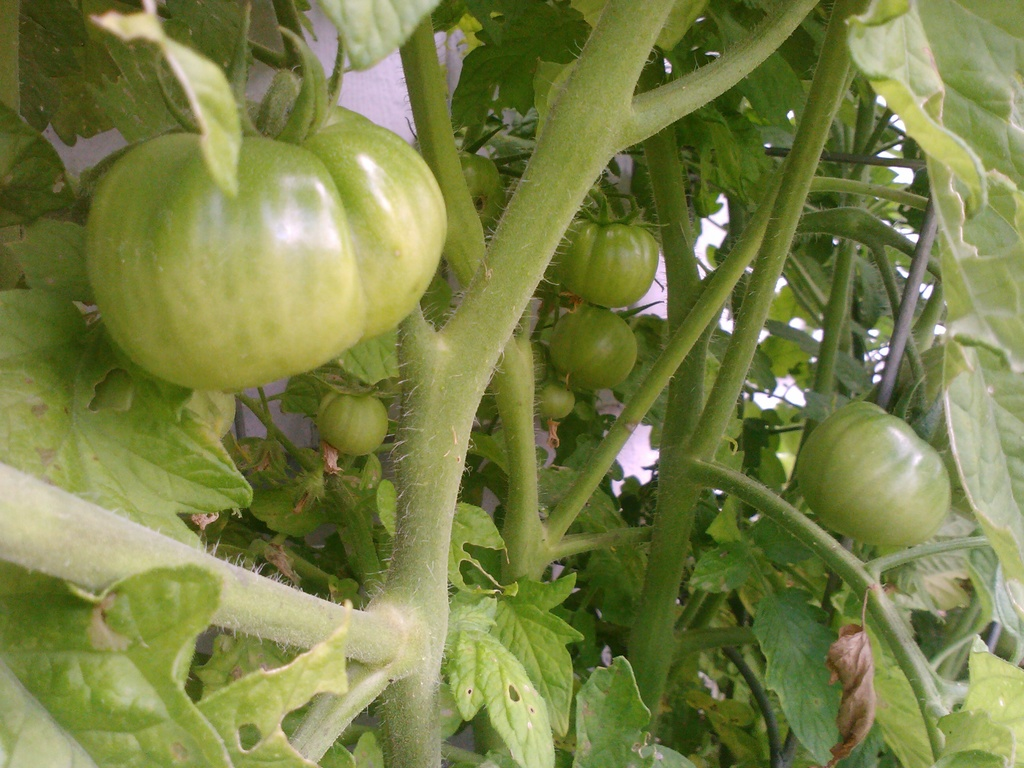Tomato: (85, 22, 450, 390), (794, 398, 954, 547), (551, 186, 657, 301), (548, 300, 637, 384), (318, 382, 391, 457), (538, 382, 576, 420)
